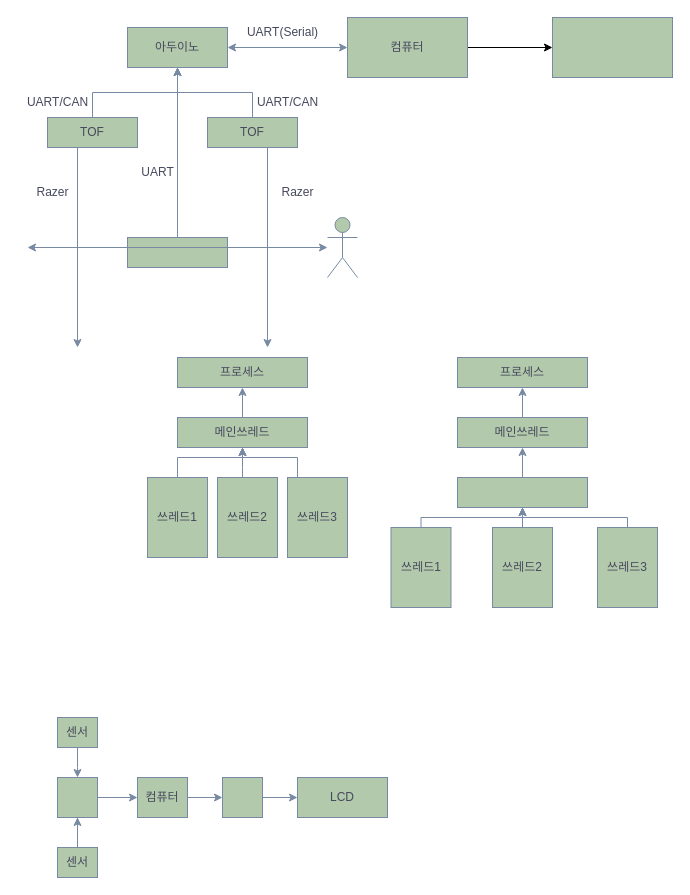
Some shapes in this 690 by 895 pixel diagram are drawn without their labels. Each missing label, with the centre of its shape:
Actor: the point at 342,247
R3: the point at 242,797
R4: the point at 77,797
압력센서: the point at 177,252
처리쓰레드: the point at 522,492
휴대전화: the point at 612,47
